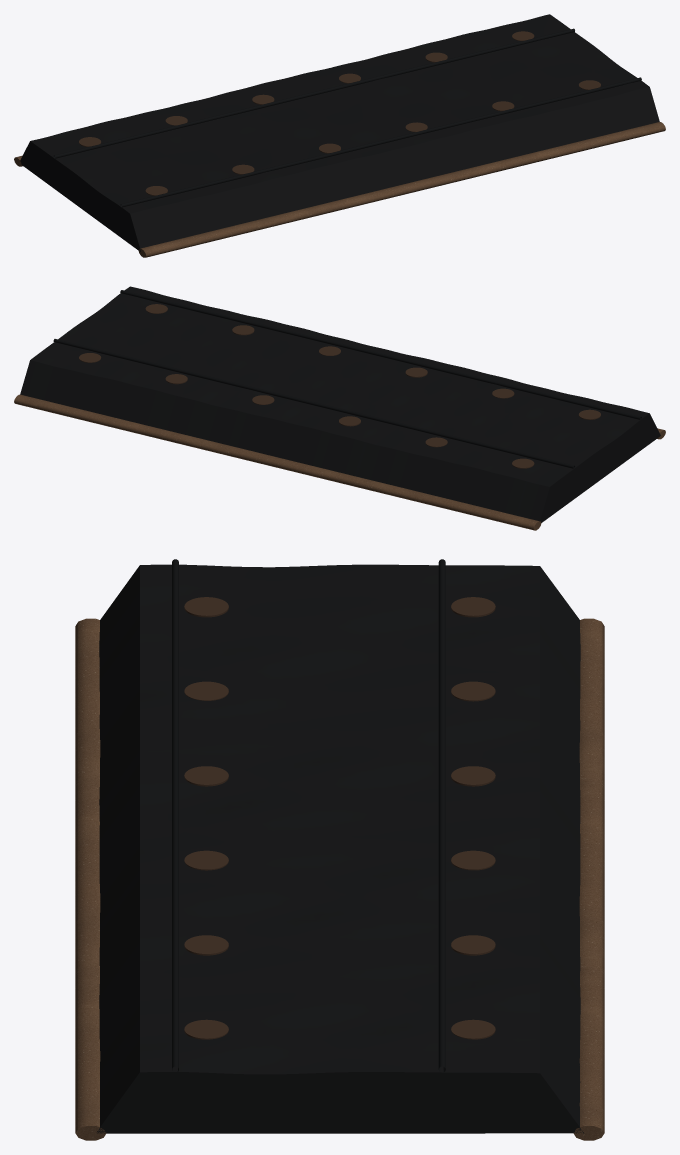
The model's file is raised_bed.glb.
The picture shows the model from 3 angles, top to bottom: view 1: azimuth 30°, elevation 25°; view 2: azimuth 150°, elevation 25°; view 3: azimuth 270°, elevation 25°; orthographic projection. The views are drawn at different scales.
Parts seen in each view (by area): view 1: raised_bed, berm.001, drip.001, drip; view 2: raised_bed, berm, drip.001, drip; view 3: raised_bed, berm, berm.001, drip.001, drip.
Boxes of the visible parts, left/top/right/bottom form: raised_bed: left=20, top=14, right=659, bottom=251; berm.001: left=138, top=122, right=665, bottom=257; drip.001: left=53, top=28, right=574, bottom=158; drip: left=120, top=77, right=641, bottom=207; raised_bed: left=20, top=286, right=660, bottom=522; berm: left=14, top=394, right=541, bottom=530; drip.001: left=53, top=339, right=574, bottom=468; drip: left=120, top=290, right=641, bottom=419; raised_bed: left=97, top=564, right=583, bottom=1133; berm: left=573, top=618, right=604, bottom=1140; berm.001: left=75, top=618, right=106, bottom=1140; drip.001: left=438, top=559, right=445, bottom=1072; drip: left=172, top=559, right=178, bottom=1071.
Bounding box in the file's own units: 2.7 × 0.1839 × 1.19.
4 materials, 1 textured.
